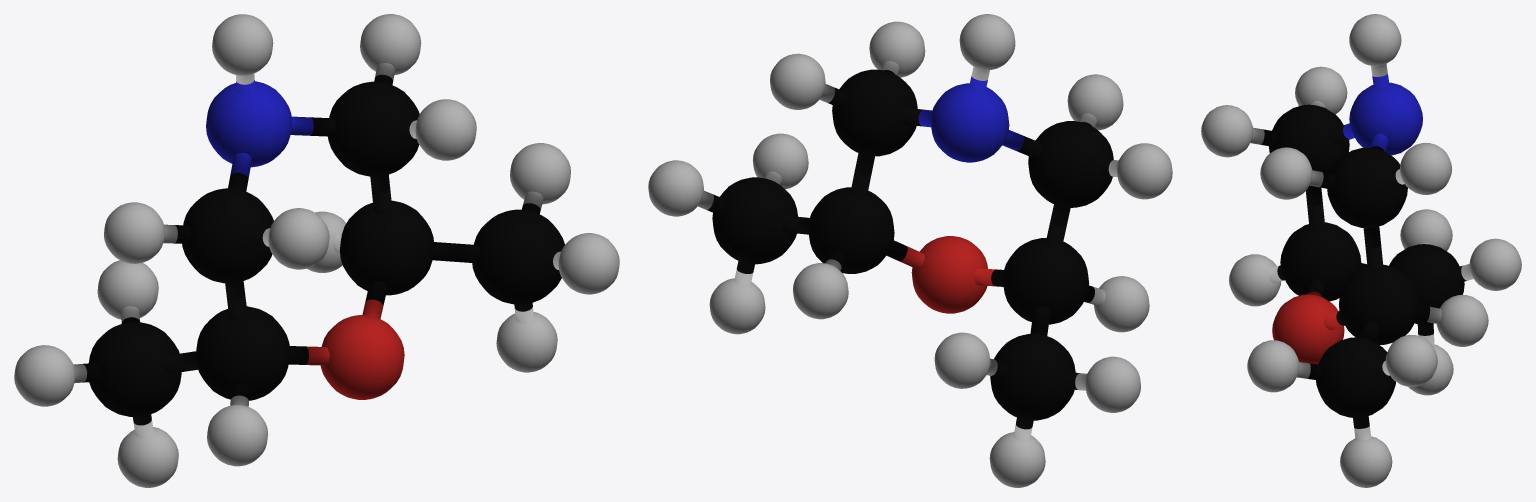
The model's file is asset.glb.
3 renders of one model, left to right at view 1: azimuth 30°, elevation 25°; view 2: azimuth 150°, elevation 25°; view 3: azimuth 270°, elevation 25°, orthographic. The views are drawn at different scales.
Parts seen in each view (by area): view 1: Shape_Sphere.002, Shape_Sphere.007, Shape_Sphere.003, Shape_Sphere.004, Shape_Sphere.006, Shape_Sphere.005, Shape_Sphere, Shape_Sphere.001, Shape_Sphere.015, Shape_Sphere.013, Shape_Sphere.009, Shape_Sphere.010 (+9 smaller); view 2: Shape_Sphere.005, Shape_Sphere.004, Shape_Sphere.006, Shape_Sphere.003, Shape_Sphere.002, Shape_Sphere.007, Shape_Sphere.001, Shape_Sphere, Shape_Sphere.012, Shape_Sphere.014, Shape_Sphere.018, Shape_Sphere.017 (+9 smaller); view 3: Shape_Sphere.004, Shape_Sphere.002, Shape_Sphere.006, Shape_Sphere.003, Shape_Sphere.001, Shape_Sphere.005, Shape_Sphere, Shape_Sphere.007, Shape_Sphere.010, Shape_Sphere.013, Shape_Sphere.015, Shape_Sphere.018 (+11 smaller).
Boxes of the visible parts, <box> form: Shape_Sphere.002: <box>339,200,434,295</box>; Shape_Sphere.007: <box>89,322,181,416</box>; Shape_Sphere.003: <box>195,306,290,400</box>; Shape_Sphere.004: <box>328,81,419,176</box>; Shape_Sphere.006: <box>472,209,564,304</box>; Shape_Sphere.005: <box>182,188,273,283</box>; Shape_Sphere: <box>320,315,404,399</box>; Shape_Sphere.001: <box>206,81,292,167</box>; Shape_Sphere.015: <box>558,233,619,294</box>; Shape_Sphere.013: <box>268,208,329,269</box>; Shape_Sphere.009: <box>207,404,267,466</box>; Shape_Sphere.010: <box>415,99,476,160</box>; Shape_Sphere.005: <box>1028,121,1113,207</box>; Shape_Sphere.004: <box>832,69,917,156</box>; Shape_Sphere.006: <box>712,177,797,264</box>; Shape_Sphere.003: <box>1002,238,1089,324</box>; Shape_Sphere.002: <box>808,187,894,273</box>; Shape_Sphere.007: <box>990,333,1075,420</box>; Shape_Sphere.001: <box>930,83,1009,162</box>; Shape_Sphere: <box>911,236,987,313</box>; Shape_Sphere.012: <box>1117,143,1172,199</box>; Shape_Sphere.014: <box>959,14,1015,70</box>; Shape_Sphere.018: <box>934,332,990,388</box>; Shape_Sphere.017: <box>648,160,703,216</box>; Shape_Sphere.004: <box>1327,147,1407,228</box>; Shape_Sphere.002: <box>1339,264,1419,345</box>; Shape_Sphere.006: <box>1316,337,1395,417</box>; Shape_Sphere.003: <box>1280,222,1361,301</box>; Shape_Sphere.001: <box>1349,82,1422,155</box>; Shape_Sphere.005: <box>1269,104,1349,173</box>; Shape_Sphere: <box>1272,294,1344,364</box>; Shape_Sphere.007: <box>1389,244,1464,324</box>; Shape_Sphere.010: <box>1260,147,1312,199</box>; Shape_Sphere.013: <box>1201,105,1253,157</box>; Shape_Sphere.015: <box>1247,340,1299,392</box>; Shape_Sphere.018: <box>1469,238,1521,290</box>.
Bounding box in the file's own units: 6.67 × 5.61 × 4.04.
